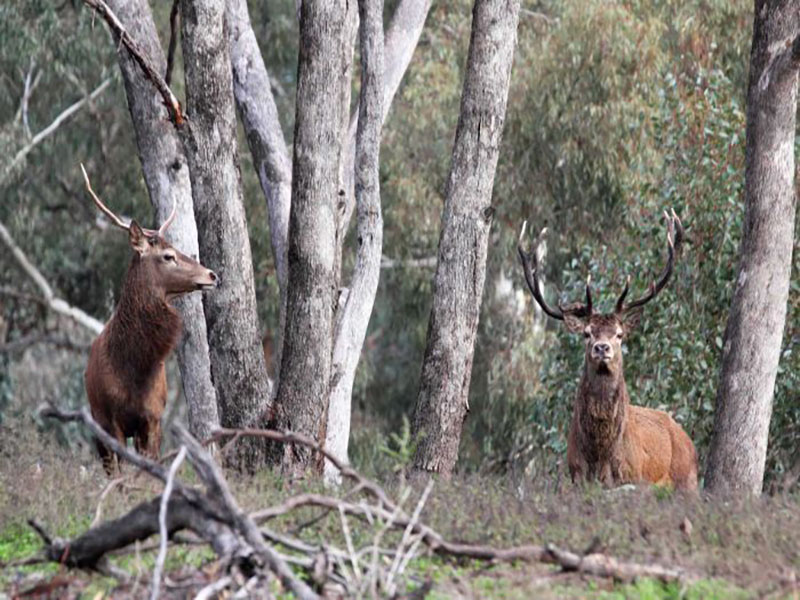cervo: (60, 146, 233, 492), (510, 212, 709, 492)
